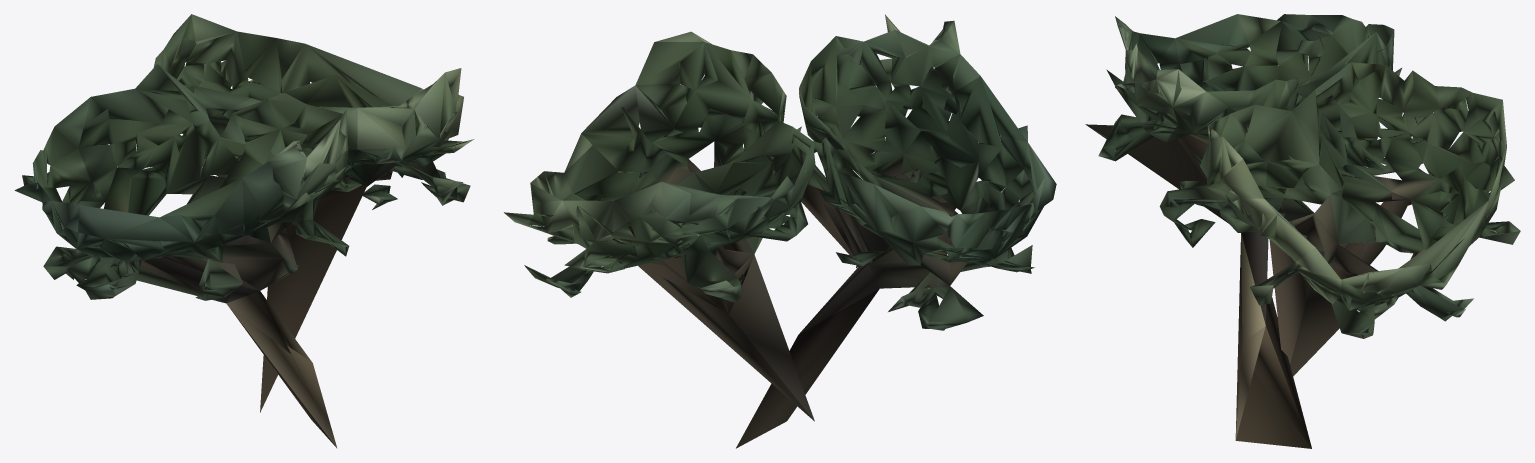
The model's file is olivier_far.glb.
3 renders of one model, left to right at view 1: azimuth 30°, elevation 25°; view 2: azimuth 150°, elevation 25°; view 3: azimuth 270°, elevation 25°, orthographic.
Visible parts, largest first — view 1: tripo_part_0; view 2: tripo_part_0; view 3: tripo_part_0.
Part boxes in pixels (x1,y1,x2,y2): tripo_part_0: (14, 14, 474, 448); tripo_part_0: (504, 14, 1056, 448); tripo_part_0: (1085, 14, 1520, 448).
Size of the model in its own units: 0.8846 by 0.7075 by 0.7415.
